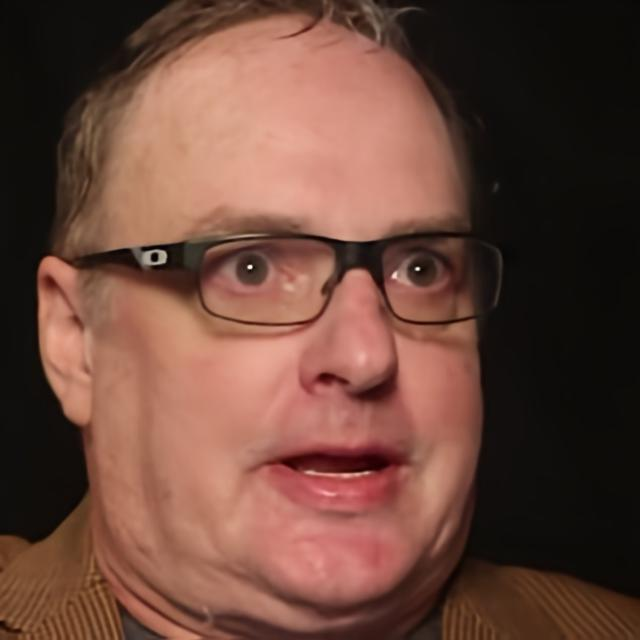surprise: (94, 16, 486, 608)
